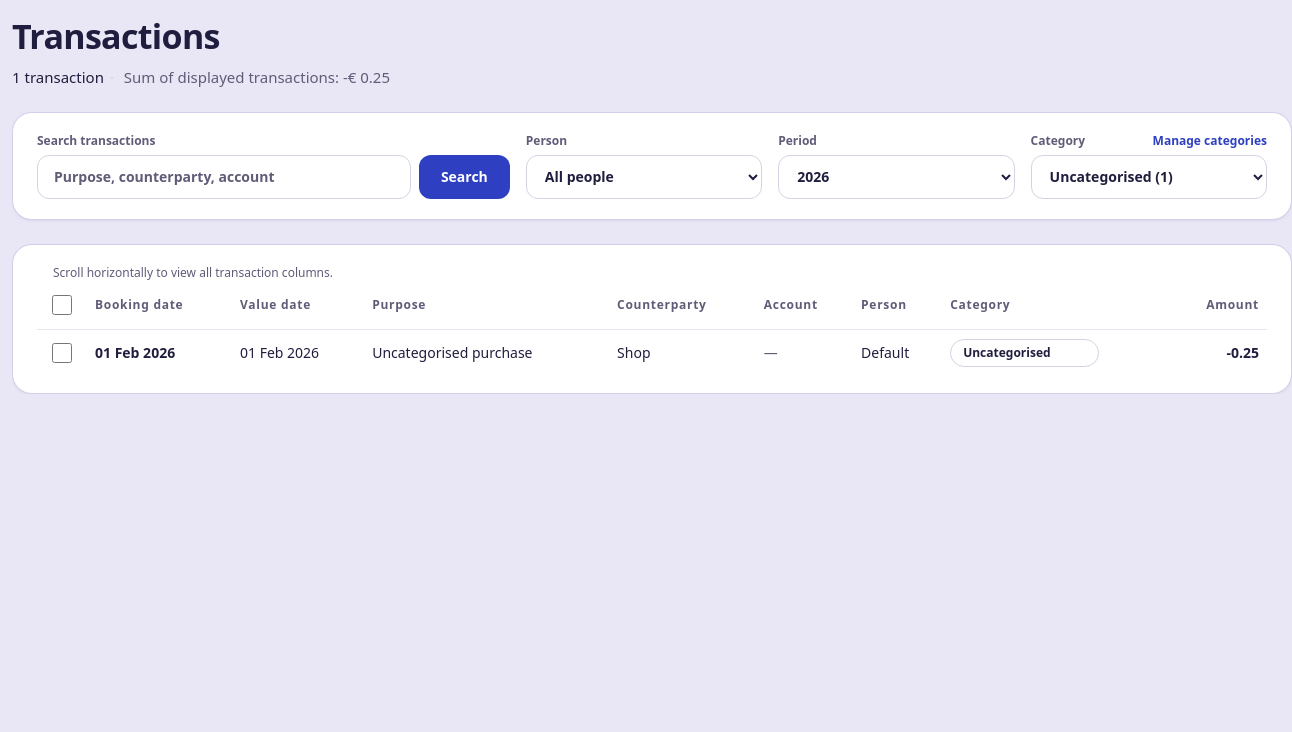
Scenario: transaction list filters › presents the count before the sum with singular, plural, and zero wording
This screenshot has width=1292, height=732.
Expected: the text with test id "visible-count" reads "1 transaction", [12, 67, 104, 87]
Select "All categories (5)" in the dropdown with test id "category-filter" at (1149, 177), box [1031, 155, 1267, 199]
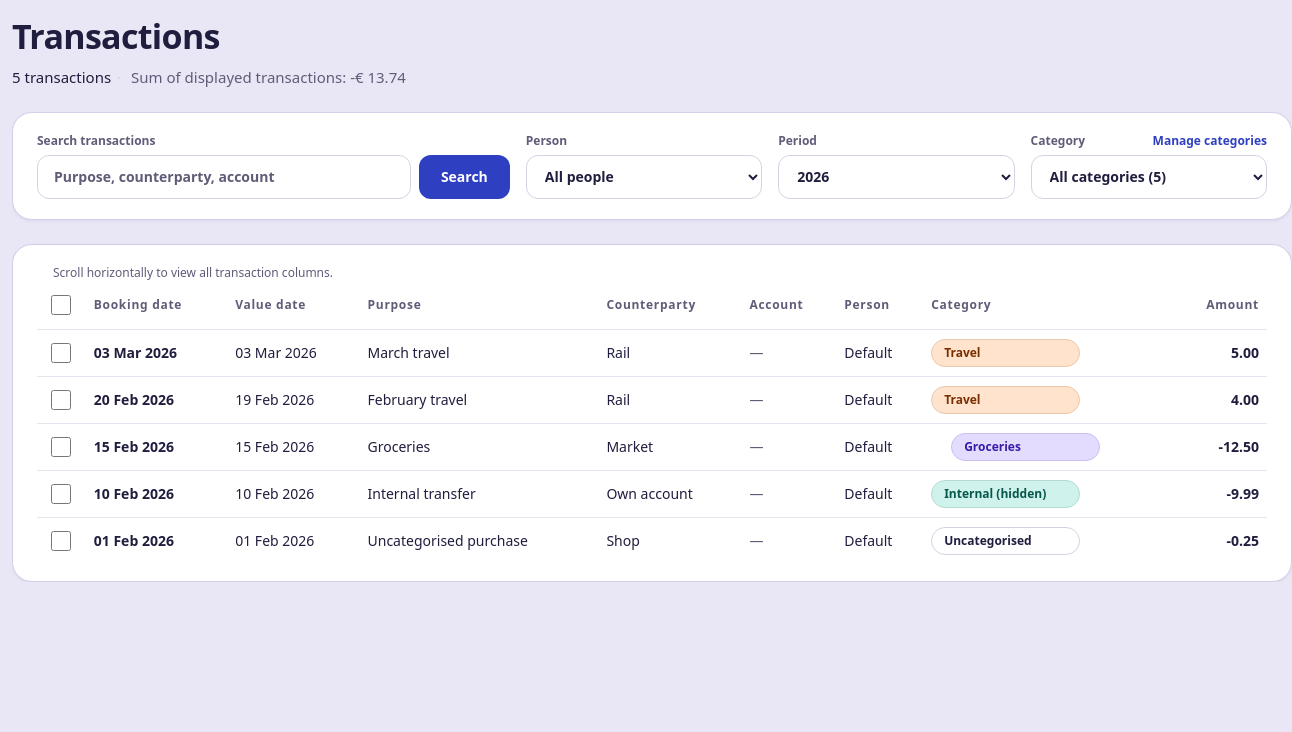
Select "February 2026" in the dropdown with test id "period-filter" at (896, 177), box [778, 155, 1015, 199]
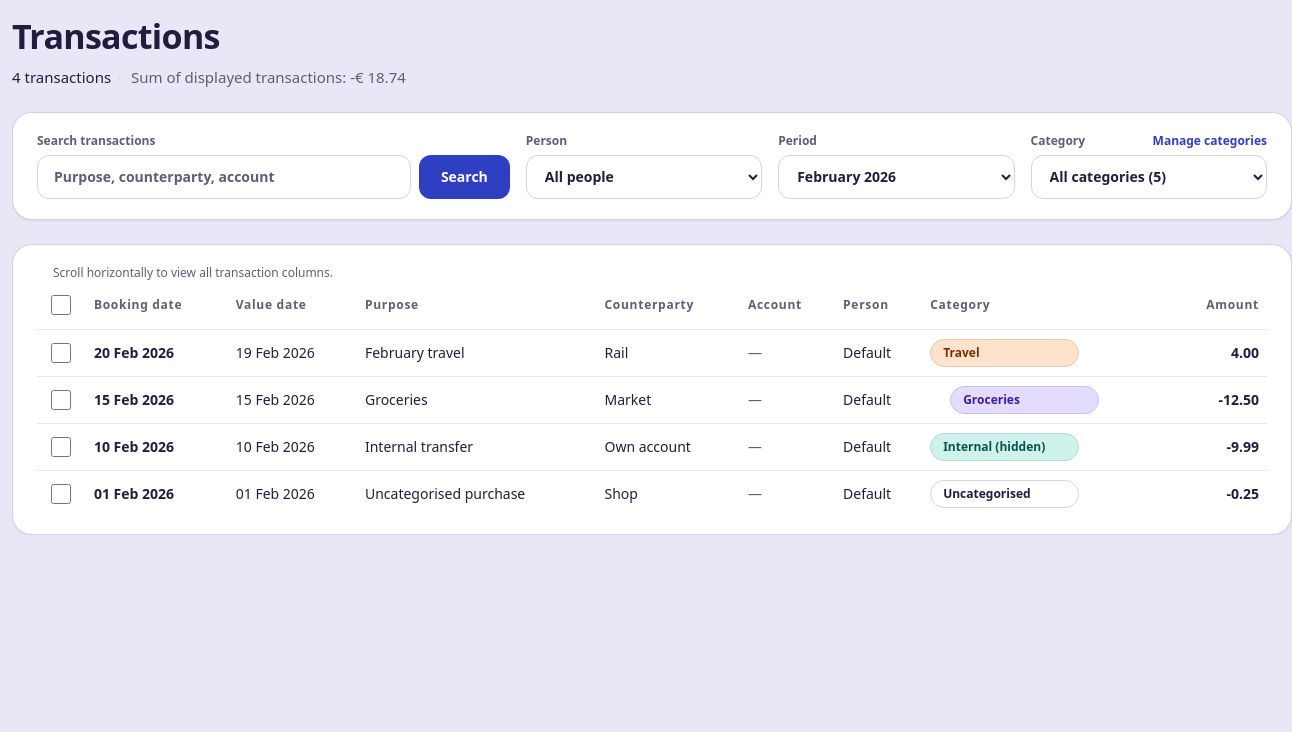
Expected: the text with test id "visible-count" reads "4 transactions", [12, 67, 111, 87]
Select "Groceries" in the dropdown with test id "category-filter" at (1149, 177), box [1031, 155, 1267, 199]
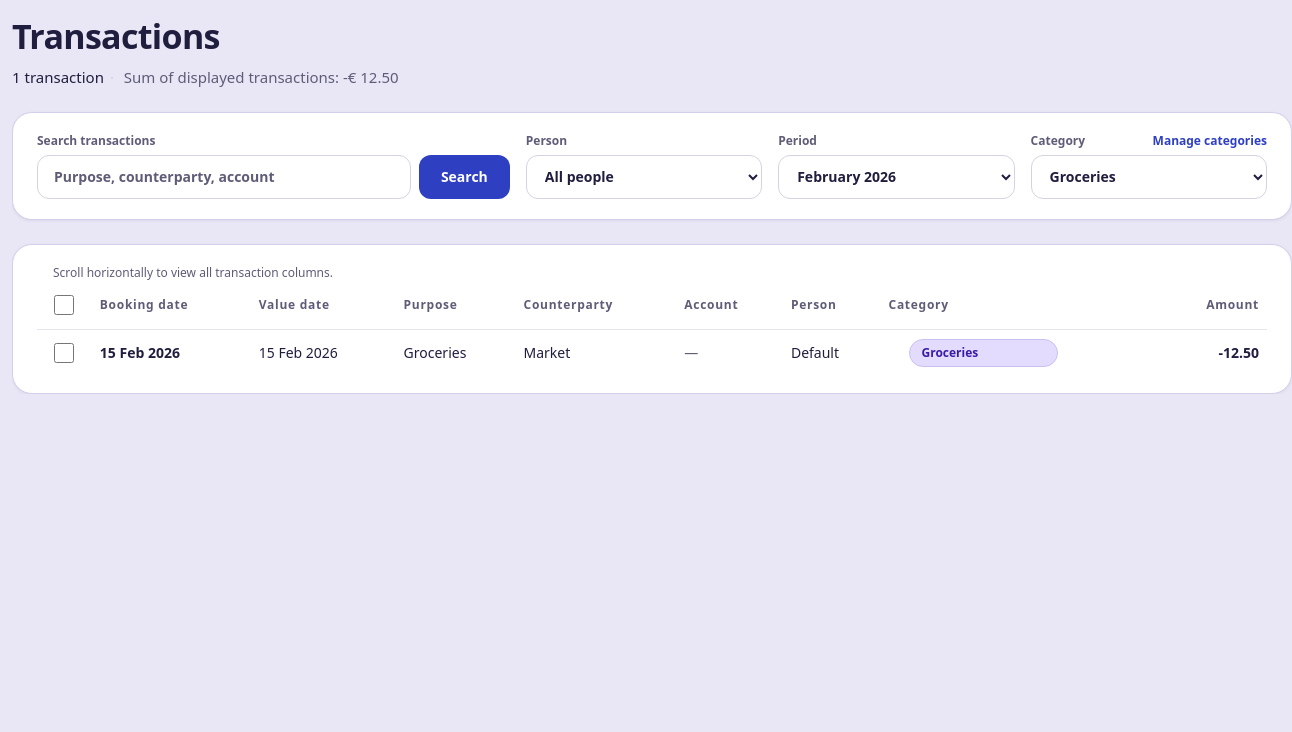
Select "March 2026" in the dropdown with test id "period-filter" at (896, 177), box [778, 155, 1015, 199]
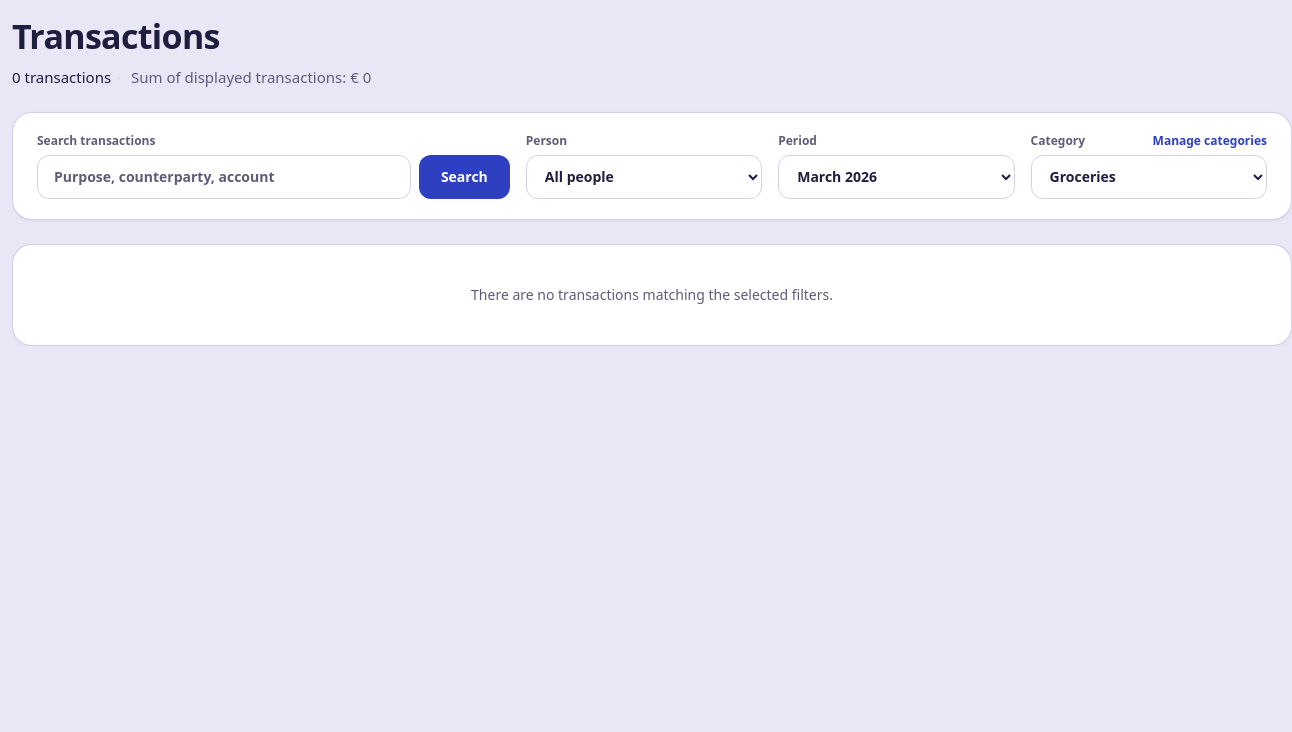
Expected: no rows are shown
Expected: the text with test id "visible-count" reads "0 transactions", [12, 67, 111, 87]
